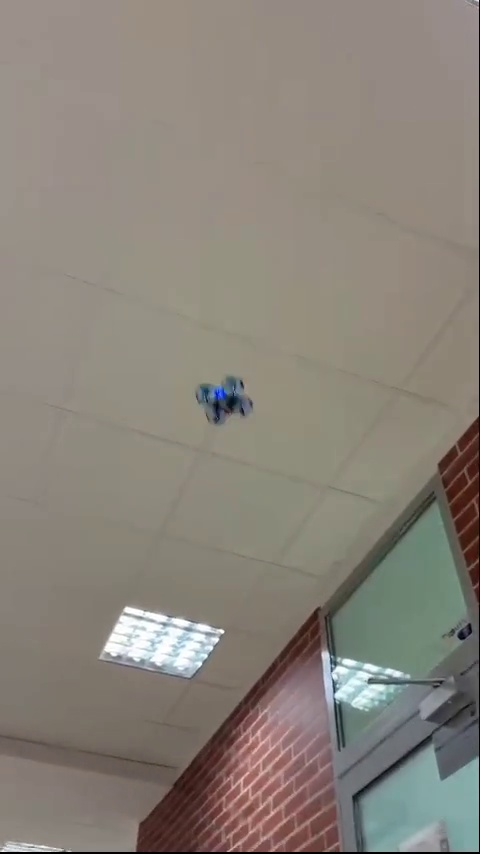drone: (197, 381, 258, 434)
